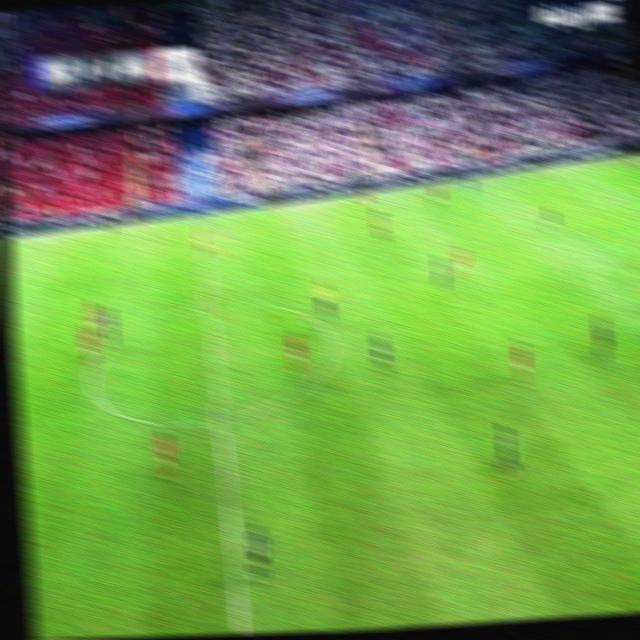bigarea_top_inner: (539, 206, 558, 223)
corner: (614, 152, 635, 164)
halfcircle_bottom: (204, 403, 233, 432)
halfcircle_top: (193, 292, 223, 319)
midline_top_intersection: (192, 212, 210, 226)
top_arc_area_intersection: (596, 245, 615, 262)
